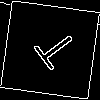T: (25, 25, 81, 77)
